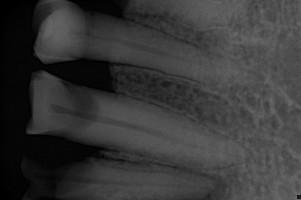Furcation Involvement: (197, 174, 230, 200)
